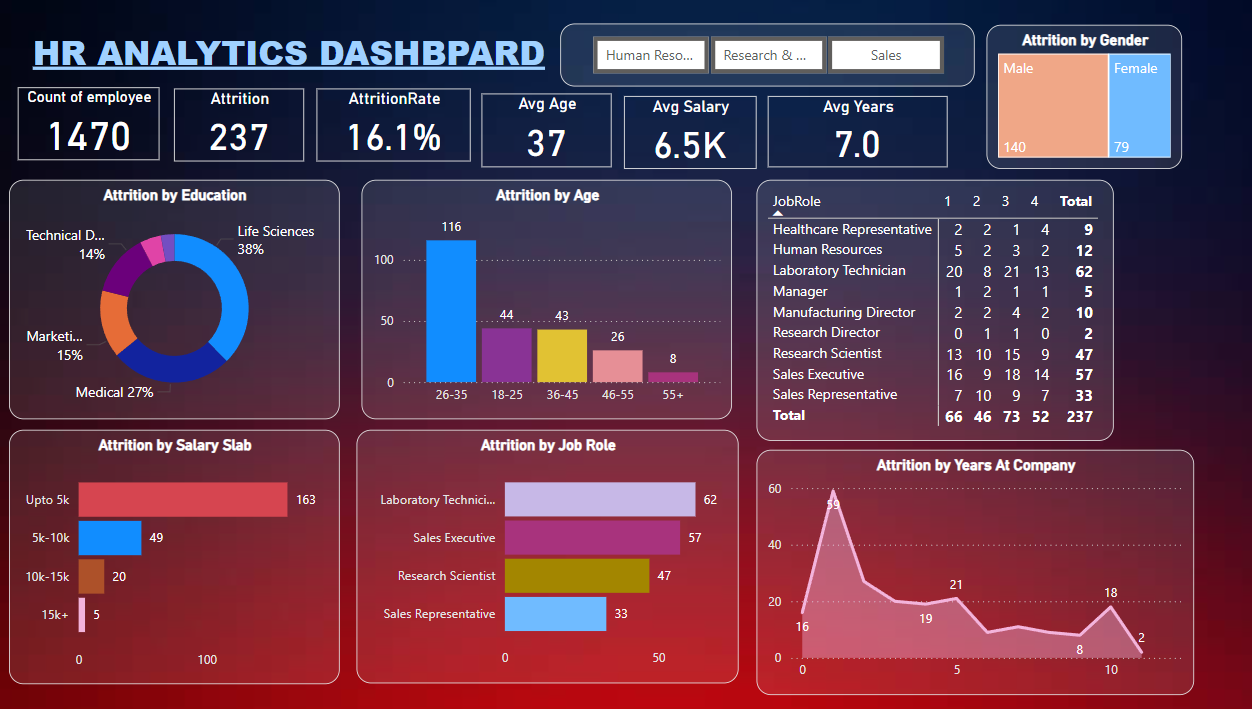

The dashboard page shown, as its layout file describes it:
{"tool":"powerbi","page":{"name":"Page 1","canvas":[1280,720],"ordinal":0},"visuals":[{"type":"card","title":"Count of employee","fields":{"Values":["CountNonNull(HR_Analytics.EmpID)"]},"box":[23.3,102.2,136.7,70],"z":0},{"type":"card","title":"Attrition","fields":{"Values":["Sum(HR_Analytics.CountAttrition)"]},"box":[173.3,103.3,125.6,70],"z":1000},{"type":"card","title":"AttritionRate","fields":{"Values":["HR_Analytics.AttritionRate"]},"box":[311.1,103.3,148.9,70],"z":2000},{"type":"card","title":"Avg Age","fields":{"Values":["Avg(HR_Analytics.Age)"]},"box":[471.1,108.9,125.6,71.1],"z":3000},{"type":"card","title":"Avg Salary","fields":{"Values":["Avg(HR_Analytics.MonthlyIncome)"]},"box":[607.8,111.1,127.8,70],"z":4000},{"type":"card","title":"Avg Years","fields":{"Values":["Avg(HR_Analytics.YearsAtCompany)"]},"box":[746.7,111.1,173.3,68.9],"z":5000},{"type":"donutChart","title":"Attrition by Education","fields":{"Category":["HR_Analytics.EducationField"],"Y":["Sum(HR_Analytics.CountAttrition)"]},"box":[14.4,192.2,318.9,231.1],"z":6000},{"type":"columnChart","title":"Attrition by Age","fields":{"Category":["HR_Analytics.AgeGroup"],"Y":["Sum(HR_Analytics.CountAttrition)"]},"box":[354.4,192.2,357.8,231.1],"z":7000},{"type":"pivotTable","fields":{"Rows":["HR_Analytics.JobRole"],"Columns":["HR_Analytics.JobSatisfaction"],"Values":["Sum(HR_Analytics.CountAttrition)"]},"box":[735.6,192.2,344.4,252.2],"z":8000},{"type":"barChart","title":"Attrition by Salary Slab","fields":{"Category":["HR_Analytics.SalarySlab"],"Y":["Sum(HR_Analytics.CountAttrition)"]},"box":[14.4,433.3,318.9,245.6],"z":9000},{"type":"barChart","title":"Attrition by Job Role","fields":{"Category":["HR_Analytics.JobRole"],"Y":["Sum(HR_Analytics.CountAttrition)"]},"box":[350,433.3,368.9,244.4],"z":10000},{"type":"areaChart","title":"Attrition by Years At Company","fields":{"Category":["HR_Analytics.YearsAtCompany"],"Y":["Sum(HR_Analytics.CountAttrition)"]},"box":[735.6,452.2,422.2,236.7],"z":11000},{"type":"treemap","title":"Attrition by Gender","fields":{"Group":["HR_Analytics.Gender"],"Values":["Sum(HR_Analytics.CountAttrition)"]},"box":[957.8,42.2,188.9,138.9],"z":12000},{"type":"slicer","fields":{"Values":["HR_Analytics.Department"]},"box":[546.7,41.1,400,61.1],"z":13000},{"type":"textbox","box":[23.3,41.1,523.3,61.1],"z":14000}]}

Visuals, with their boxes in screenshot pixels (x1, y1, x2, y2), scaled from the page's 1280x720 canvas onto the 1252x709 screenshot:
"Count of employee" card: bbox=[23, 101, 156, 170]
"Attrition" card: bbox=[170, 102, 292, 171]
"AttritionRate" card: bbox=[304, 102, 450, 171]
"Avg Age" card: bbox=[461, 107, 584, 177]
"Avg Salary" card: bbox=[595, 109, 720, 178]
"Avg Years" card: bbox=[730, 109, 900, 177]
"Attrition by Education" donutChart: bbox=[14, 189, 326, 417]
"Attrition by Age" columnChart: bbox=[347, 189, 697, 417]
pivotTable - HR_Analytics.JobRole x HR_Analytics.JobSatisfaction: bbox=[720, 189, 1056, 438]
"Attrition by Salary Slab" barChart: bbox=[14, 427, 326, 669]
"Attrition by Job Role" barChart: bbox=[342, 427, 703, 667]
"Attrition by Years At Company" areaChart: bbox=[720, 445, 1132, 678]
"Attrition by Gender" treemap: bbox=[937, 42, 1122, 178]
slicer - HR_Analytics.Department: bbox=[535, 40, 926, 101]
textbox: bbox=[23, 40, 535, 101]
